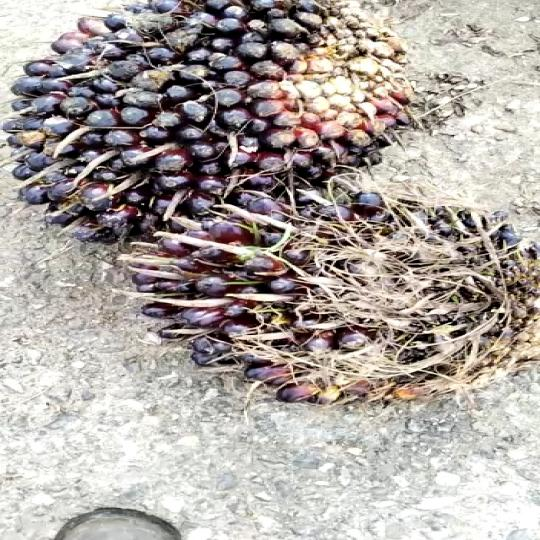mentah: (0, 3, 477, 257), (124, 182, 540, 412)
